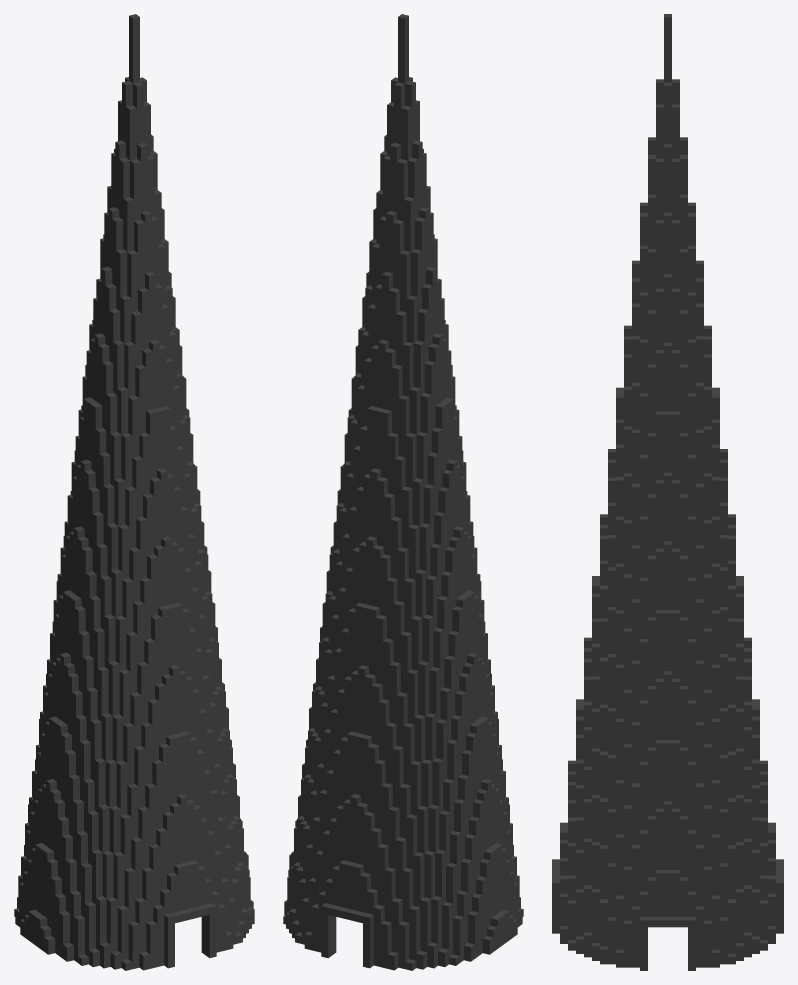
Rendered from cone-tower.obj.
3 views of the same model, side by side, from view 1: azimuth 30°, elevation 25°; view 2: azimuth 150°, elevation 25°; view 3: azimuth 270°, elevation 25° (orthographic).
Size of the model in its own units: 29 by 125 by 29.
1 material, 1 textured.
